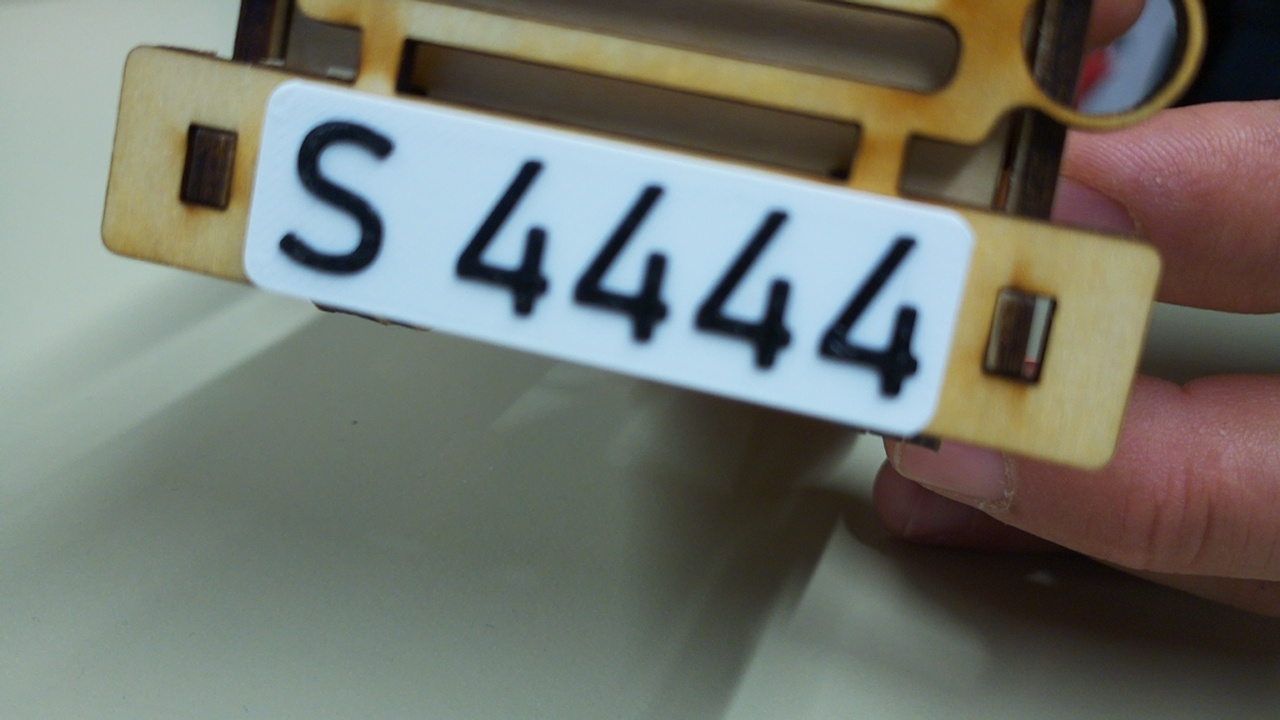license_plate: (241, 71, 981, 445)
